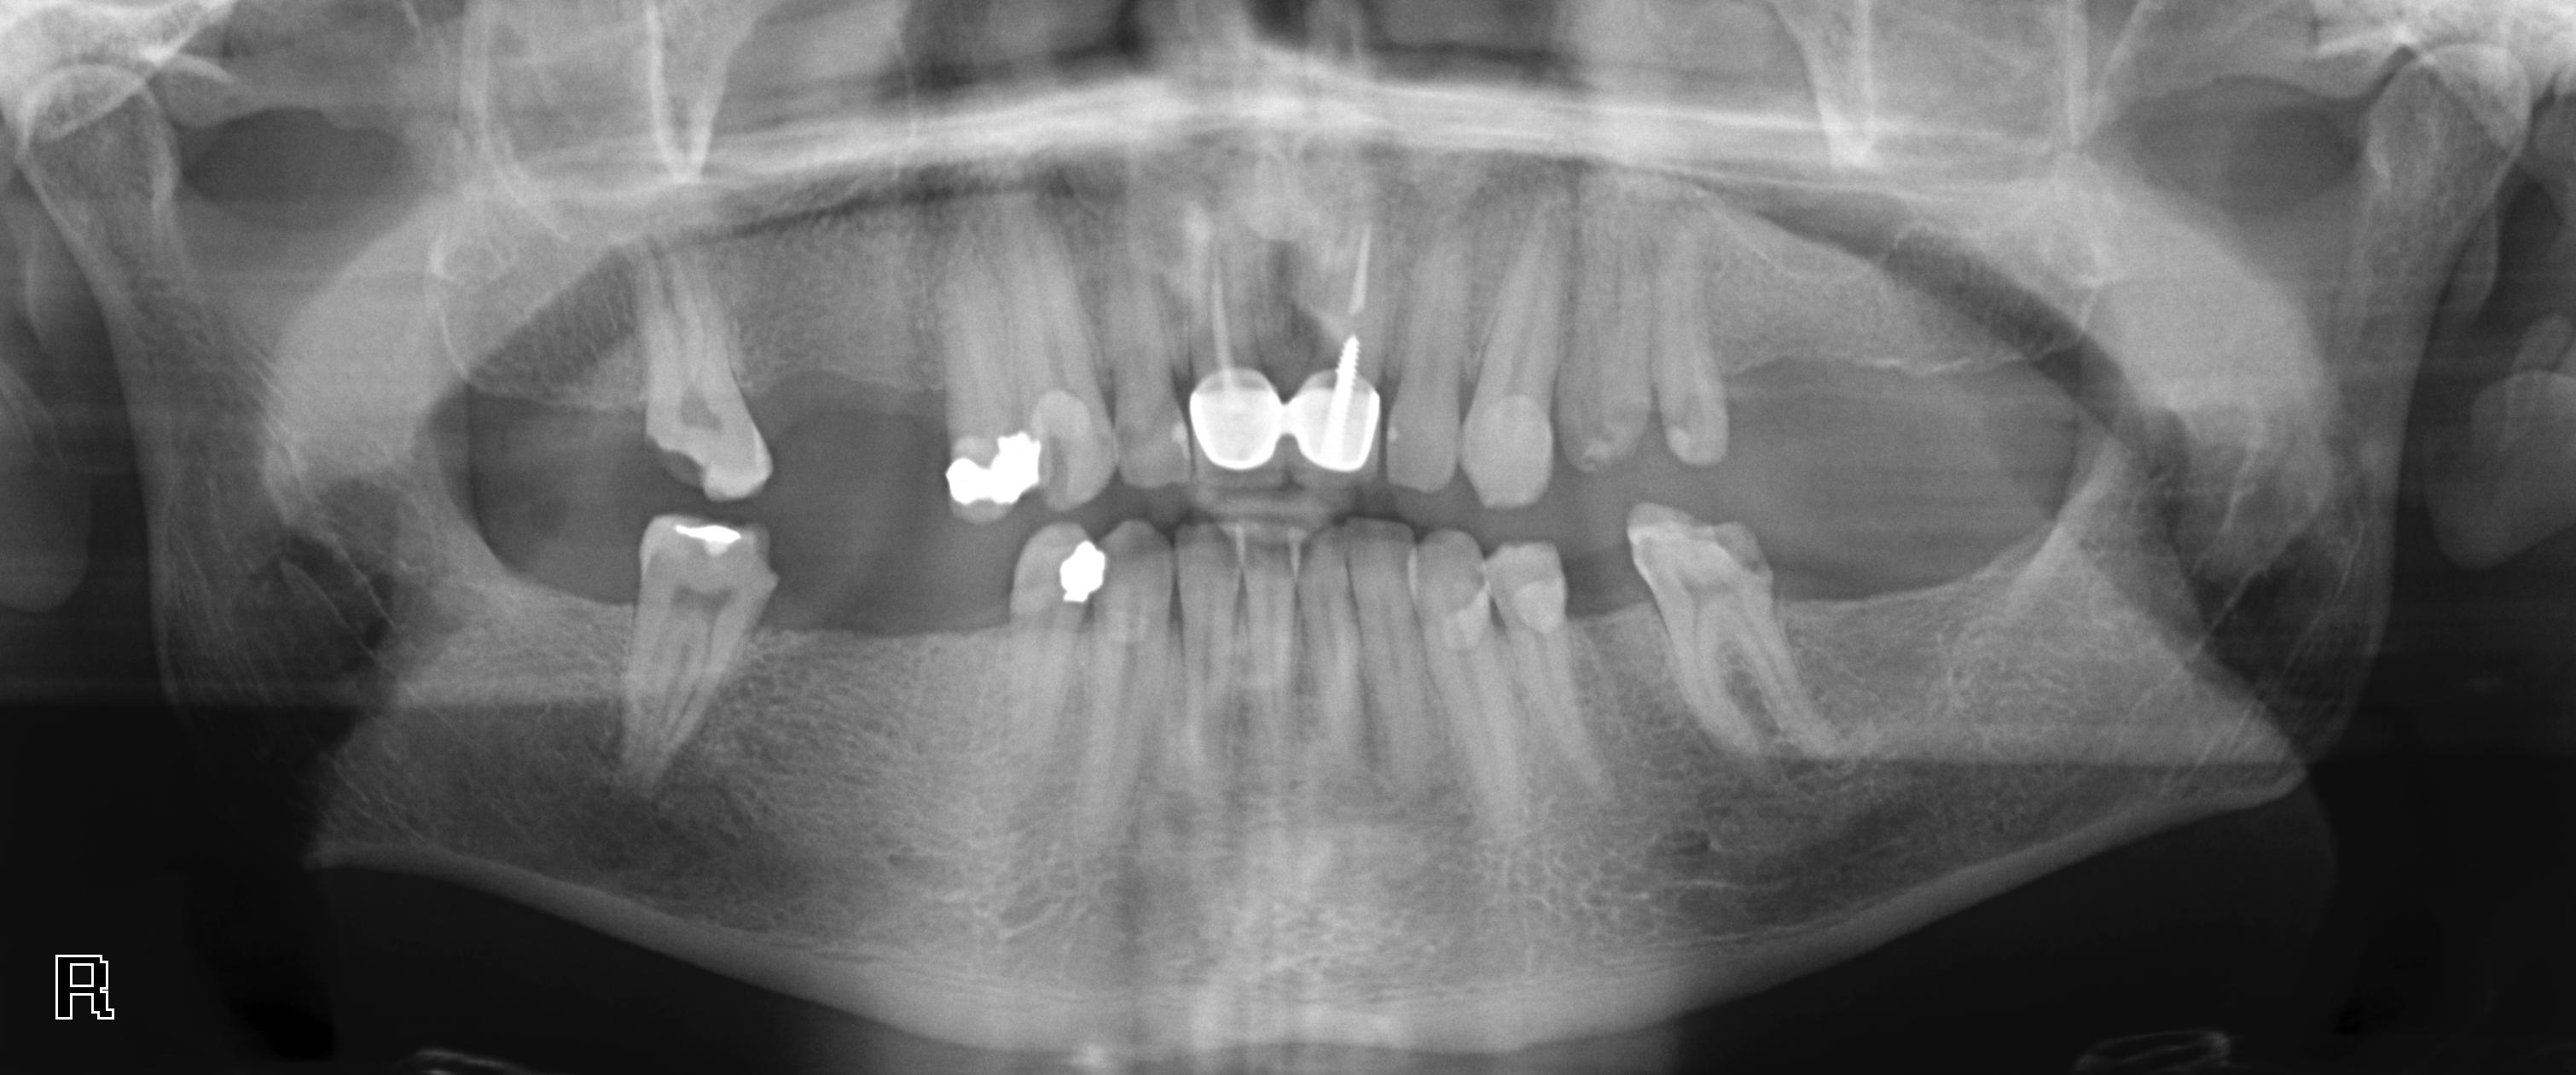Çürük: (1298, 367, 1385, 468), (1191, 375, 1286, 464), (945, 427, 1043, 505), (1056, 544, 1112, 613), (1446, 595, 1503, 656), (674, 518, 746, 562)
Çürük Bölgesi: (642, 431, 726, 496), (1715, 521, 1774, 579), (1043, 434, 1076, 516)
